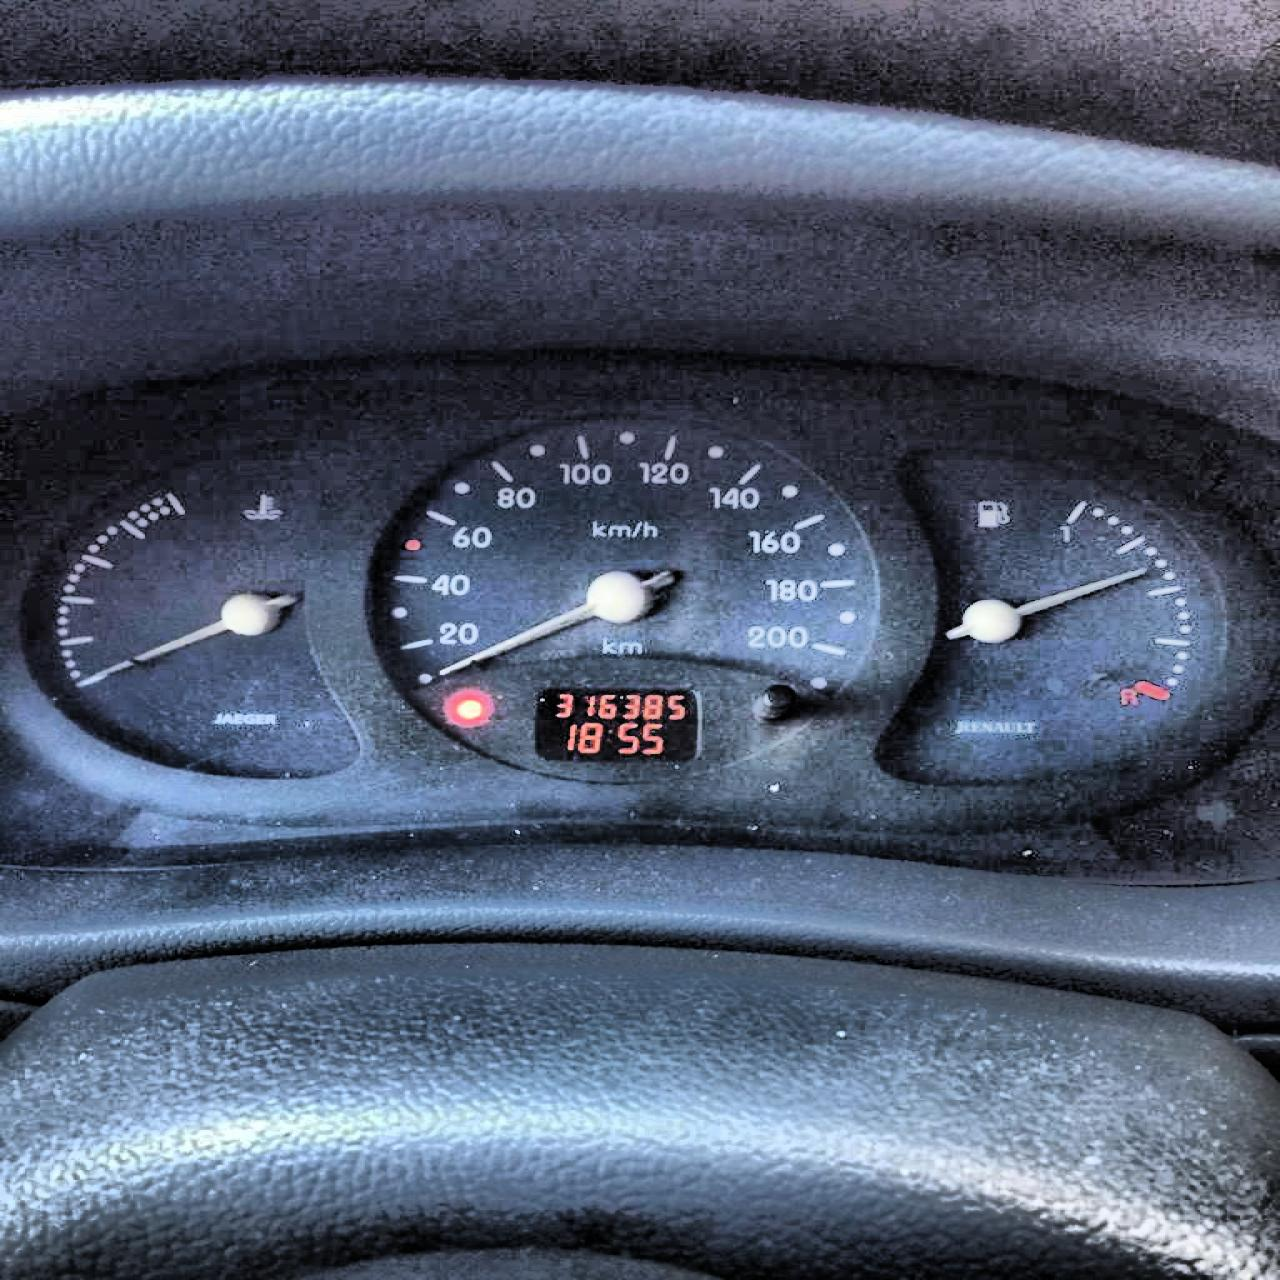1: (565, 722, 576, 750), (585, 694, 593, 716)
3: (553, 693, 572, 716), (621, 694, 639, 716)
5: (640, 722, 662, 753), (617, 722, 639, 753), (667, 695, 683, 719)
6: (597, 694, 615, 716)
8: (577, 721, 601, 751), (641, 694, 660, 717)
odometer: (530, 685, 700, 764)
